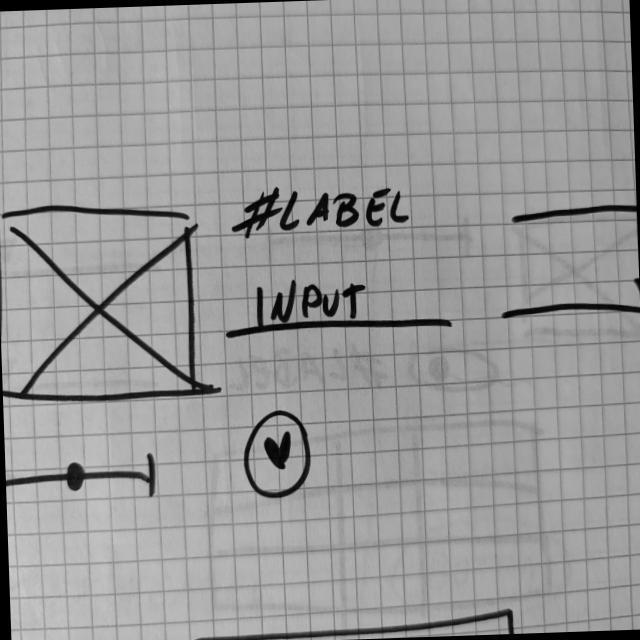icon-button: (238, 408, 315, 504)
image: (1, 195, 203, 408)
input: (223, 272, 456, 344)
label: (231, 180, 414, 246)
number-input: (507, 154, 638, 227)
select: (498, 270, 640, 324)
slider: (6, 448, 160, 516)
